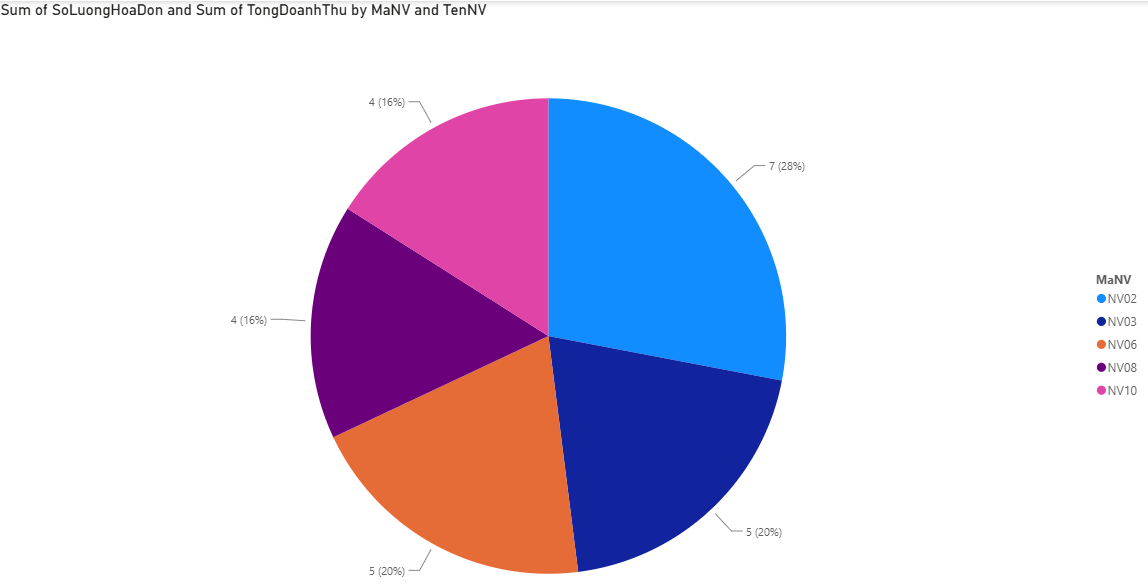

The dashboard page shown, as its layout file describes it:
{"tool":"powerbi","page":{"name":"Page 2","canvas":[1280,720],"ordinal":1},"visuals":[{"type":"pieChart","fields":{"Category":["v_Thongke_Doanhso_Nhanvien.MaNV","v_Thongke_Doanhso_Nhanvien.TenNV"],"Series":["v_Thongke_Doanhso_Nhanvien.TenNV"],"Y":["Sum(v_Thongke_Doanhso_Nhanvien.SoLuongHoaDon)"]},"box":[0,0,1279.4,720],"z":0}]}

Visuals, with their boxes on the page's 1280x720 design canvas (x1, y1, x2, y2). These are canvas units, not pixel positions in the 1148x587 screenshot, which may show the page scaled, cropped or inside an application window:
pieChart - v_Thongke_Doanhso_Nhanvien.MaNV x v_Thongke_Doanhso_Nhanvien.TenNV: detection(0, 0, 1279, 720)
